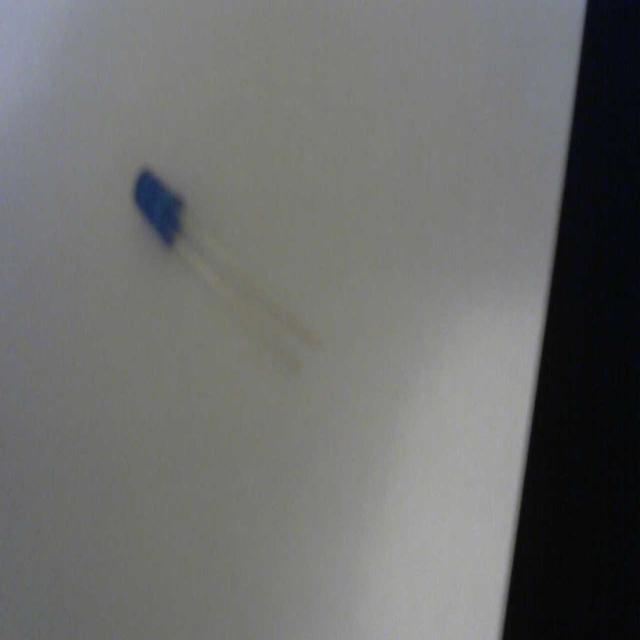blue_led: (133, 166, 183, 247)
